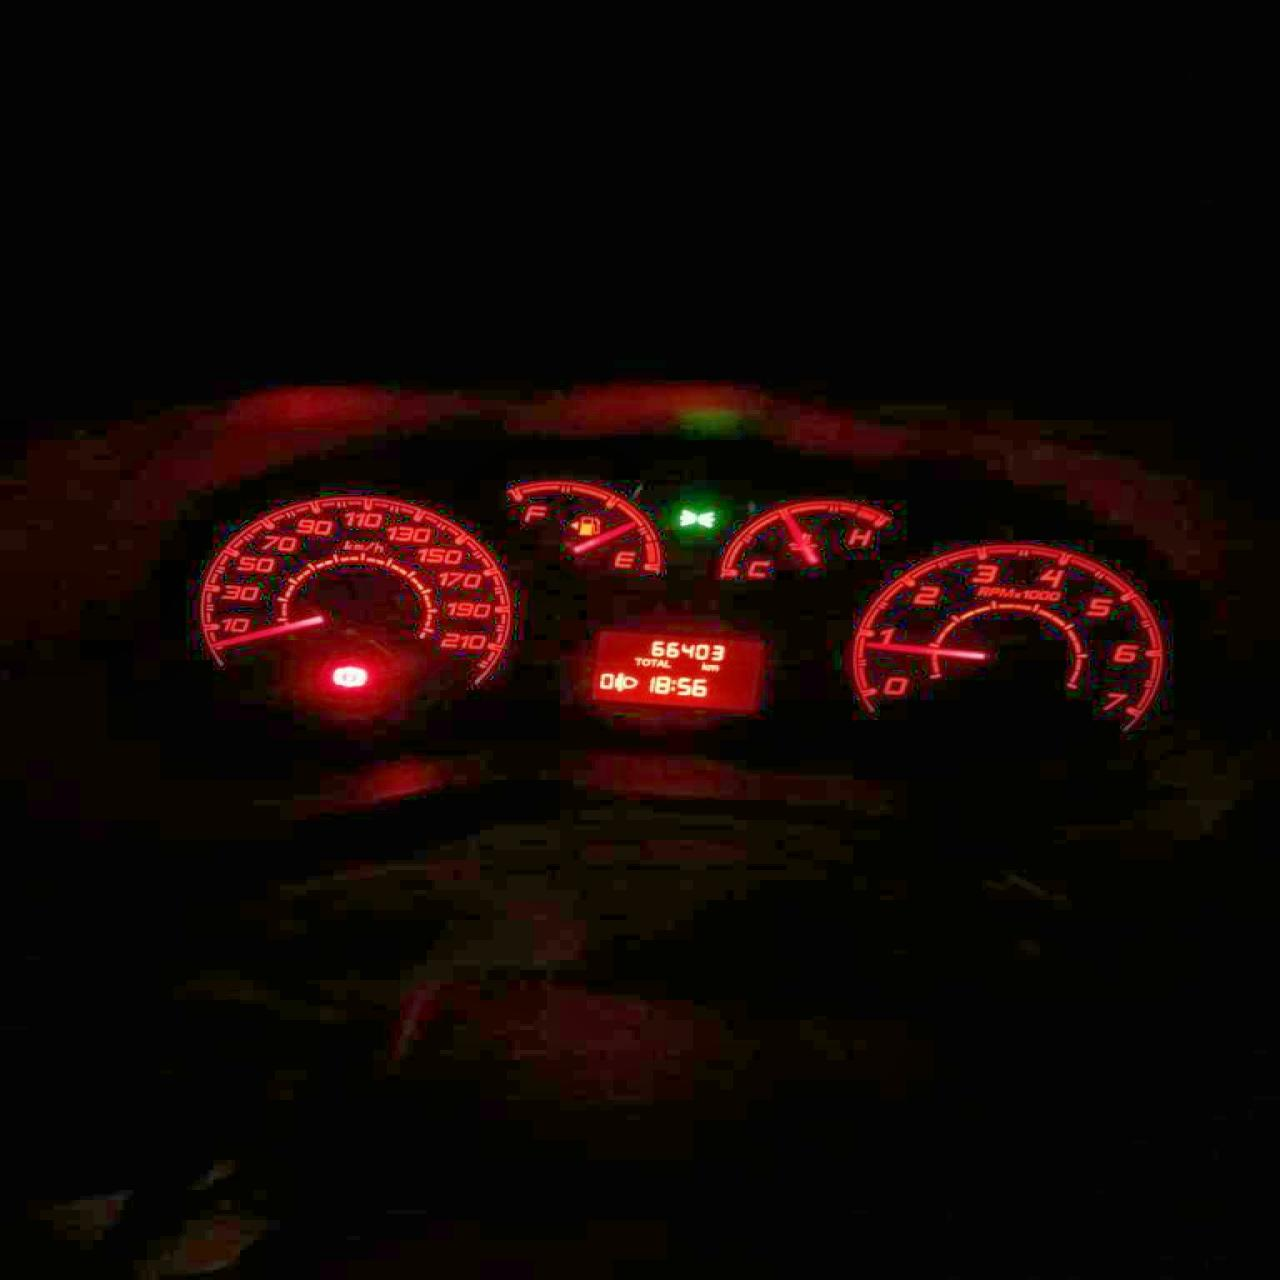0: (693, 642, 710, 660), (597, 672, 613, 689)
1: (645, 674, 653, 693)
3: (708, 642, 724, 660)
4: (680, 641, 692, 658)
5: (675, 675, 690, 695)
6: (690, 676, 707, 697), (648, 639, 663, 656), (665, 639, 679, 658)
8: (653, 674, 669, 694)
X: (707, 663, 719, 672), (699, 660, 707, 670), (655, 658, 663, 667), (640, 658, 648, 667), (632, 656, 640, 665), (648, 658, 655, 667), (670, 679, 675, 693), (663, 659, 672, 666)
odometer: (581, 626, 763, 714)
